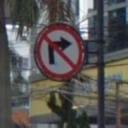NoVirarDireita: (33, 22, 87, 84)
